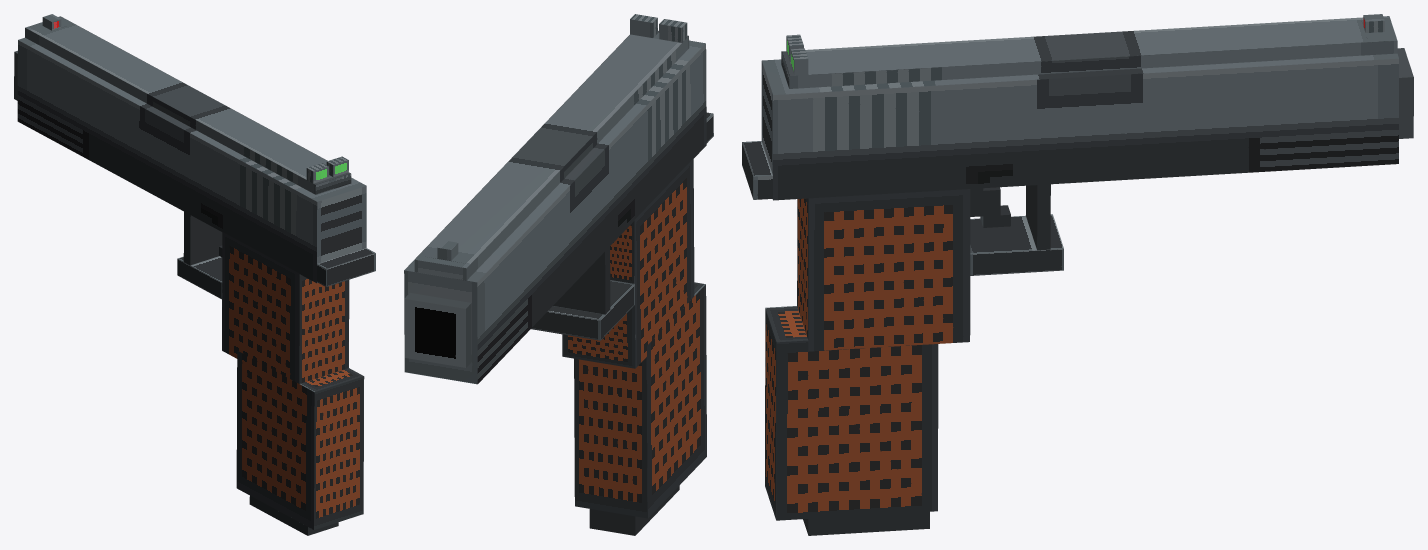
The model's file is BGN_BLOCKGLOCK.fbx.
The picture shows the model from 3 angles, left to right: view 1: azimuth 30°, elevation 25°; view 2: azimuth 150°, elevation 25°; view 3: azimuth 270°, elevation 25°; orthographic projection. The views are drawn at different scales.
Visible parts, largest first — view 1: BGN_BLOCKGLOCK, CLIP; view 2: BGN_BLOCKGLOCK, CLIP; view 3: BGN_BLOCKGLOCK, CLIP.
Part boxes in pixels (left/top/right/bottom): BGN_BLOCKGLOCK: left=14, top=14, right=375, bottom=529; CLIP: left=249, top=496, right=338, bottom=535; BGN_BLOCKGLOCK: left=404, top=14, right=713, bottom=518; CLIP: left=589, top=486, right=679, bottom=535; BGN_BLOCKGLOCK: left=742, top=14, right=1413, bottom=520; CLIP: left=803, top=511, right=929, bottom=535.
Bounding box in the file's own units: 15.41 × 47.6 × 60.49.
1 material, 1 textured.
